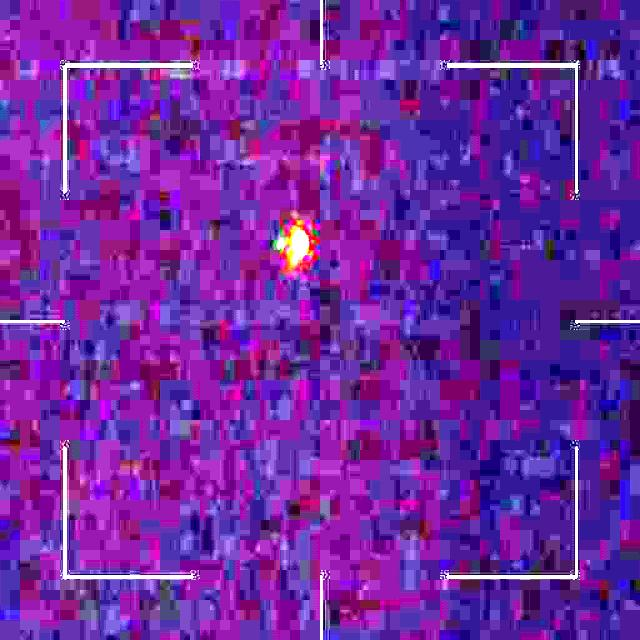bird: (276, 222, 314, 271)
